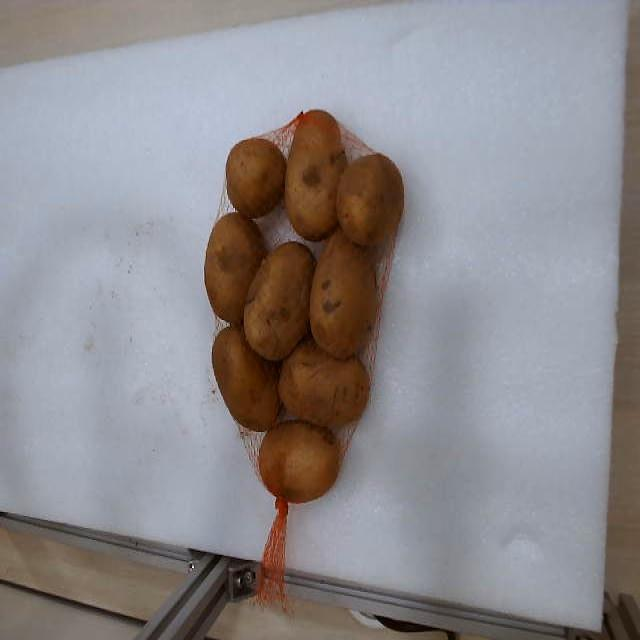potato: (309, 230, 378, 359), (244, 242, 315, 361), (278, 338, 369, 427), (285, 110, 346, 239), (212, 325, 280, 431), (204, 212, 266, 324), (259, 420, 340, 503), (336, 153, 404, 245), (228, 140, 286, 218)
